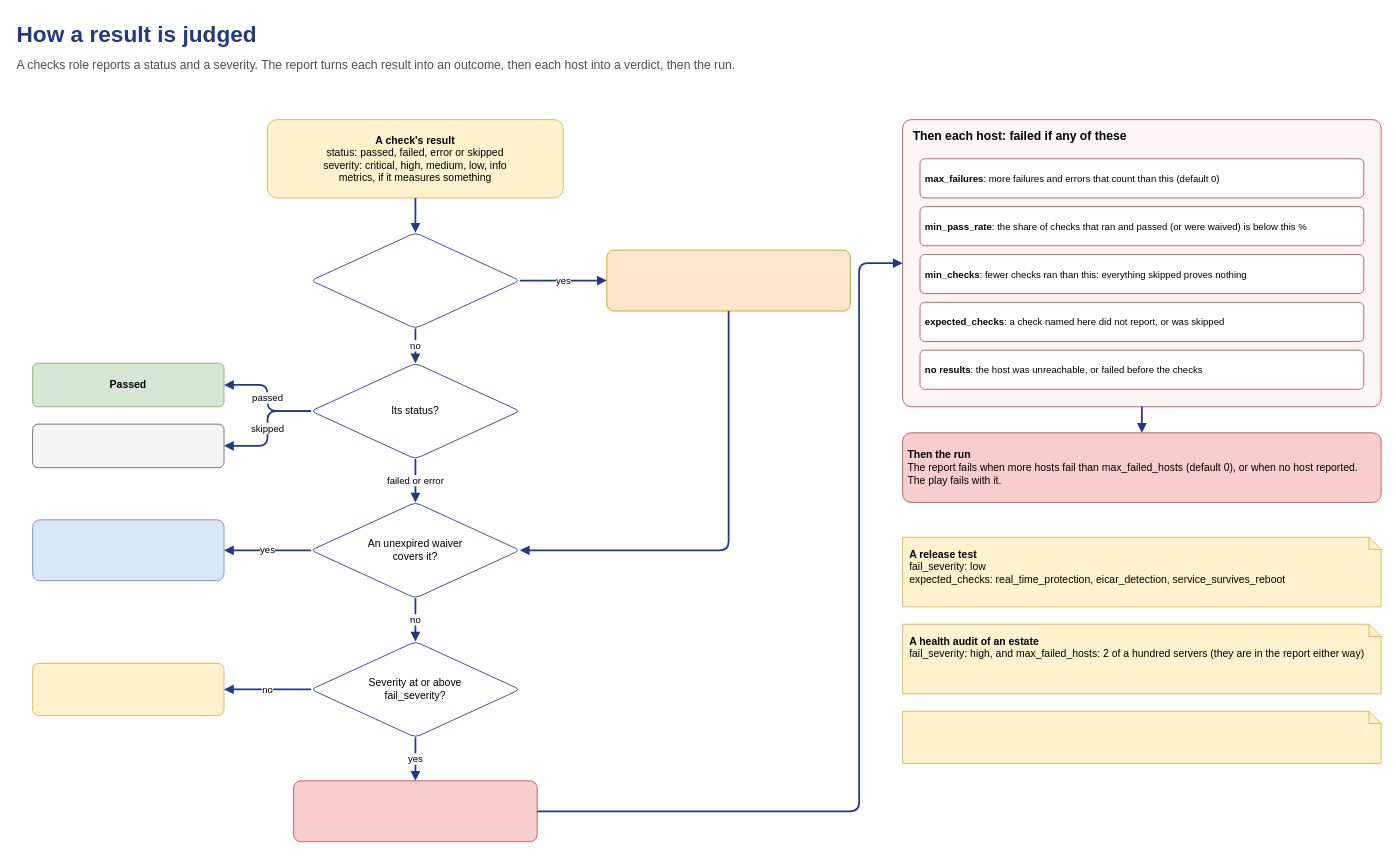
The diagram is 1396 pixels wide and 857 high, and some of its shapes have lost their labels. Here are the shapes that lost their labels. From the top down, the centre of each, then its label:
At pixel 415 280: "A limit on one of its metrics breached?".
At pixel 728 280: "It now counts as failed ( error if the metric was not reported)".
At pixel 128 445: "Skipped with the reason".
At pixel 128 550: "Waived listed with its reason, reference and expiry".
At pixel 128 689: "Warning below the line that counts".
At pixel 1141 736: "A large compliance suite max_failures: 50, and min_pass_rate: 95".
At pixel 415 811: "Failed or Error counts against the host's verdict".
